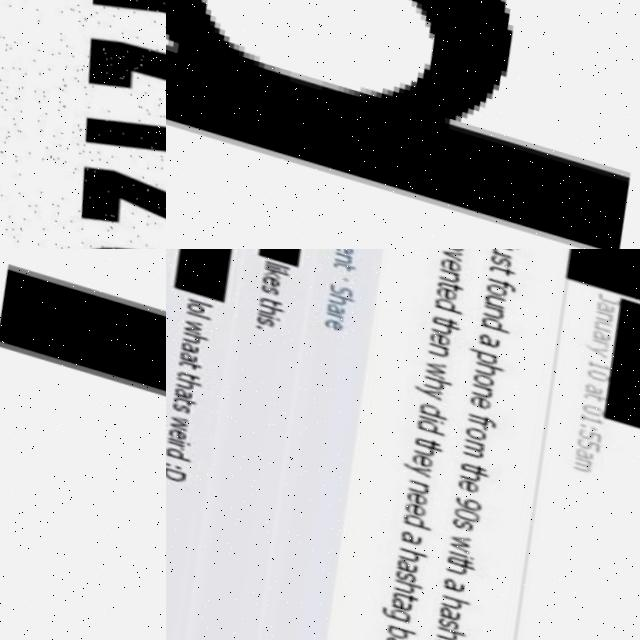1: (61, 52, 166, 200), (568, 428, 597, 445), (571, 418, 597, 434)
2: (55, 117, 166, 249)
5: (447, 487, 476, 505)
A: (431, 569, 458, 588), (390, 523, 415, 541), (172, 337, 197, 354), (426, 599, 452, 615), (385, 552, 411, 568), (473, 325, 497, 342), (173, 347, 196, 363), (381, 591, 405, 606), (586, 319, 609, 334), (577, 373, 600, 388), (567, 438, 590, 453), (167, 384, 190, 399), (592, 290, 613, 306), (322, 296, 344, 311), (371, 628, 397, 640), (419, 635, 448, 640)
B: (376, 619, 408, 636)
D: (166, 0, 640, 249), (412, 395, 445, 415), (477, 307, 509, 327), (431, 289, 462, 309), (410, 412, 441, 430), (395, 507, 426, 525), (166, 443, 185, 459), (166, 464, 180, 481)
E: (462, 385, 488, 404), (448, 469, 474, 488), (403, 445, 428, 463), (434, 249, 460, 266), (397, 484, 423, 501), (396, 494, 420, 512), (432, 278, 455, 295), (424, 325, 448, 340), (319, 312, 341, 328), (258, 270, 279, 285), (166, 424, 181, 437)
F: (0, 249, 166, 571), (461, 403, 493, 421), (482, 268, 515, 285)
G: (371, 600, 403, 618)
H: (431, 587, 464, 607), (426, 618, 458, 638), (406, 435, 438, 454), (469, 353, 500, 372), (426, 313, 457, 332), (384, 573, 416, 591), (453, 460, 484, 478), (437, 554, 468, 572), (390, 542, 422, 559), (251, 298, 283, 315), (418, 370, 449, 387), (324, 287, 353, 305), (168, 373, 197, 391), (177, 328, 206, 345)
I: (440, 543, 467, 554), (413, 408, 439, 419), (261, 260, 285, 269), (253, 309, 277, 317), (166, 434, 184, 443)
J: (592, 281, 617, 297)
K: (261, 262, 286, 277)
L: (182, 294, 210, 305), (182, 308, 209, 317), (264, 256, 288, 265)
M: (455, 429, 480, 452), (565, 447, 587, 466)
N: (477, 296, 502, 314), (434, 260, 458, 277), (400, 472, 424, 488), (589, 299, 612, 315), (423, 335, 446, 351), (465, 376, 489, 391), (329, 249, 350, 259)
O: (457, 417, 482, 436), (482, 274, 505, 291), (466, 365, 490, 381), (181, 297, 204, 312)
P: (462, 340, 494, 357)
R: (461, 410, 482, 423), (322, 305, 342, 318), (587, 329, 606, 340), (166, 437, 179, 448)
S: (324, 276, 353, 294), (255, 278, 277, 294), (427, 610, 450, 624), (443, 511, 466, 525), (386, 564, 408, 577), (486, 249, 509, 261), (252, 312, 272, 325), (166, 398, 185, 411)
T: (485, 255, 515, 271), (454, 452, 482, 468), (428, 306, 456, 322), (407, 427, 435, 443), (438, 547, 466, 561), (329, 254, 354, 269), (434, 272, 462, 285), (382, 584, 410, 597), (166, 391, 190, 406), (254, 290, 279, 304), (172, 356, 197, 370), (578, 382, 602, 395), (171, 368, 196, 380), (424, 630, 452, 640)
U: (480, 284, 503, 301), (590, 309, 611, 324)
V: (437, 249, 461, 255)
W: (419, 351, 444, 373), (439, 526, 465, 547), (179, 315, 201, 332), (166, 410, 183, 430)
Y: (407, 377, 439, 395), (395, 455, 427, 473), (580, 333, 606, 350)
